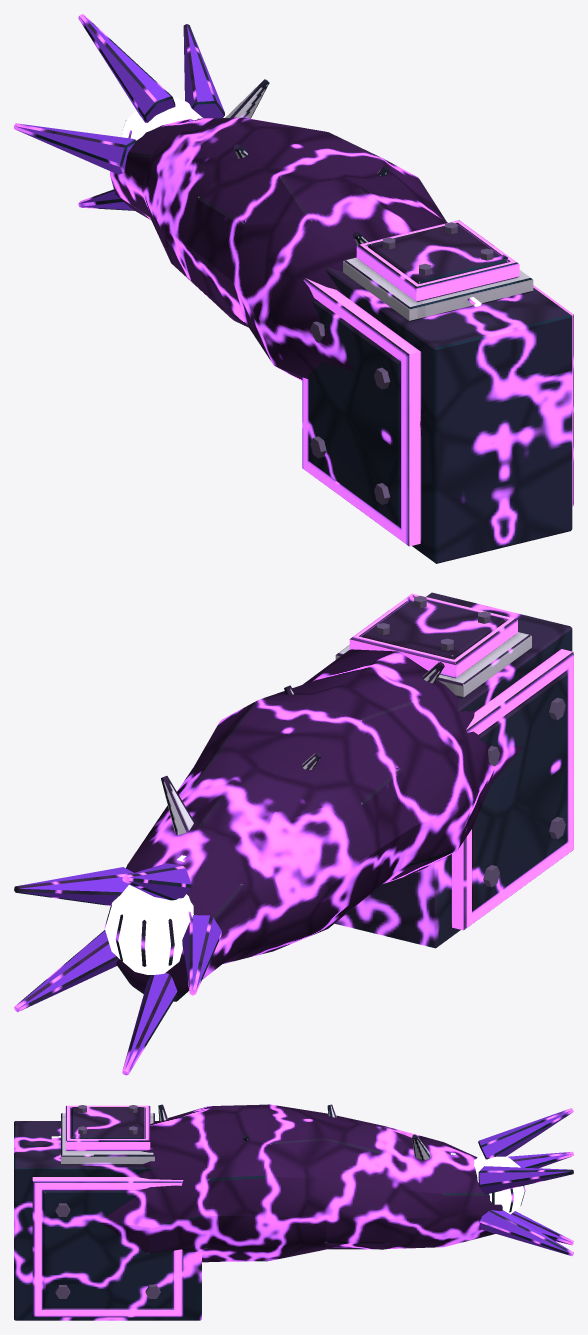
Rendered from arma_alien_t5.fbx.
3 views of the same model, one above another, from view 1: azimuth 30°, elevation 25°; view 2: azimuth 150°, elevation 25°; view 3: azimuth 270°, elevation 25° (orthographic). The views are drawn at different scales.
Visible parts, largest first — view 1: arma_alien_t5, arma_alien_t5_cristal, arma_alien_t5_neon; view 2: arma_alien_t5, arma_alien_t5_cristal, arma_alien_t5_neon; view 3: arma_alien_t5, arma_alien_t5_cristal, arma_alien_t5_neon.
Part boxes in pixels (<box>): arma_alien_t5: <box>14,14,573,563</box>; arma_alien_t5_cristal: <box>15,15,224,209</box>; arma_alien_t5_neon: <box>121,97,481,306</box>; arma_alien_t5: <box>14,592,573,1075</box>; arma_alien_t5_cristal: <box>18,863,221,1070</box>; arma_alien_t5_neon: <box>105,855,193,974</box>; arma_alien_t5: <box>14,1104,573,1320</box>; arma_alien_t5_cristal: <box>479,1109,572,1255</box>; arma_alien_t5_neon: <box>51,1136,525,1214</box>.
Size of the model in its own units: 1.87 by 2.16 by 5.96.
